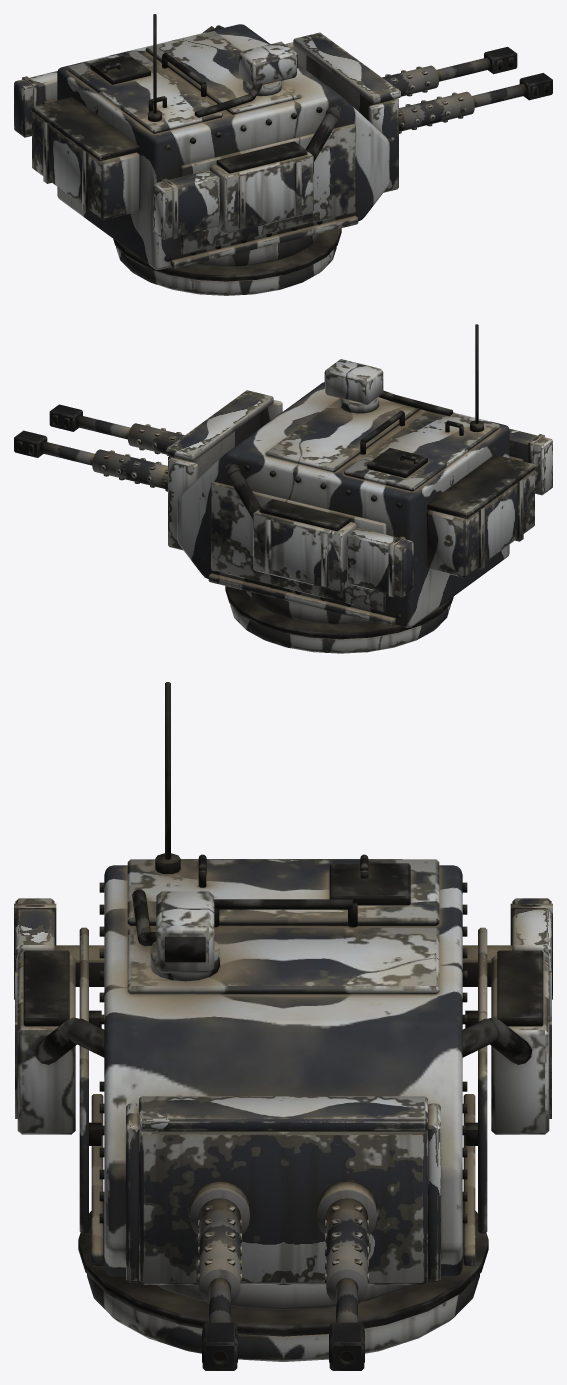
File: turret_grach_t3_arctic_tiger.glb
3 views of the same model, one above another, from view 1: azimuth 30°, elevation 25°; view 2: azimuth 150°, elevation 25°; view 3: azimuth 270°, elevation 25° (orthographic). The views are drawn at different scales.
Parts seen in each view (by area): view 1: turret_light_t3, guns, pods; view 2: turret_light_t3, guns, pods; view 3: turret_light_t3, guns, pods.
Part boxes in pixels (left/top/right/bottom): turret_light_t3: left=31, top=14, right=389, bottom=295; guns: left=285, top=32, right=552, bottom=192; pods: left=14, top=71, right=220, bottom=239; turret_light_t3: left=177, top=324, right=535, bottom=653; guns: left=14, top=390, right=282, bottom=550; pods: left=346, top=428, right=552, bottom=597; turret_light_t3: left=15, top=682, right=551, bottom=1361; guns: left=126, top=1096, right=440, bottom=1370; pods: left=14, top=898, right=552, bottom=999.
Bounding box in the file's own units: 1.86 × 1.09 × 1.05.
3 materials, 3 textured.
